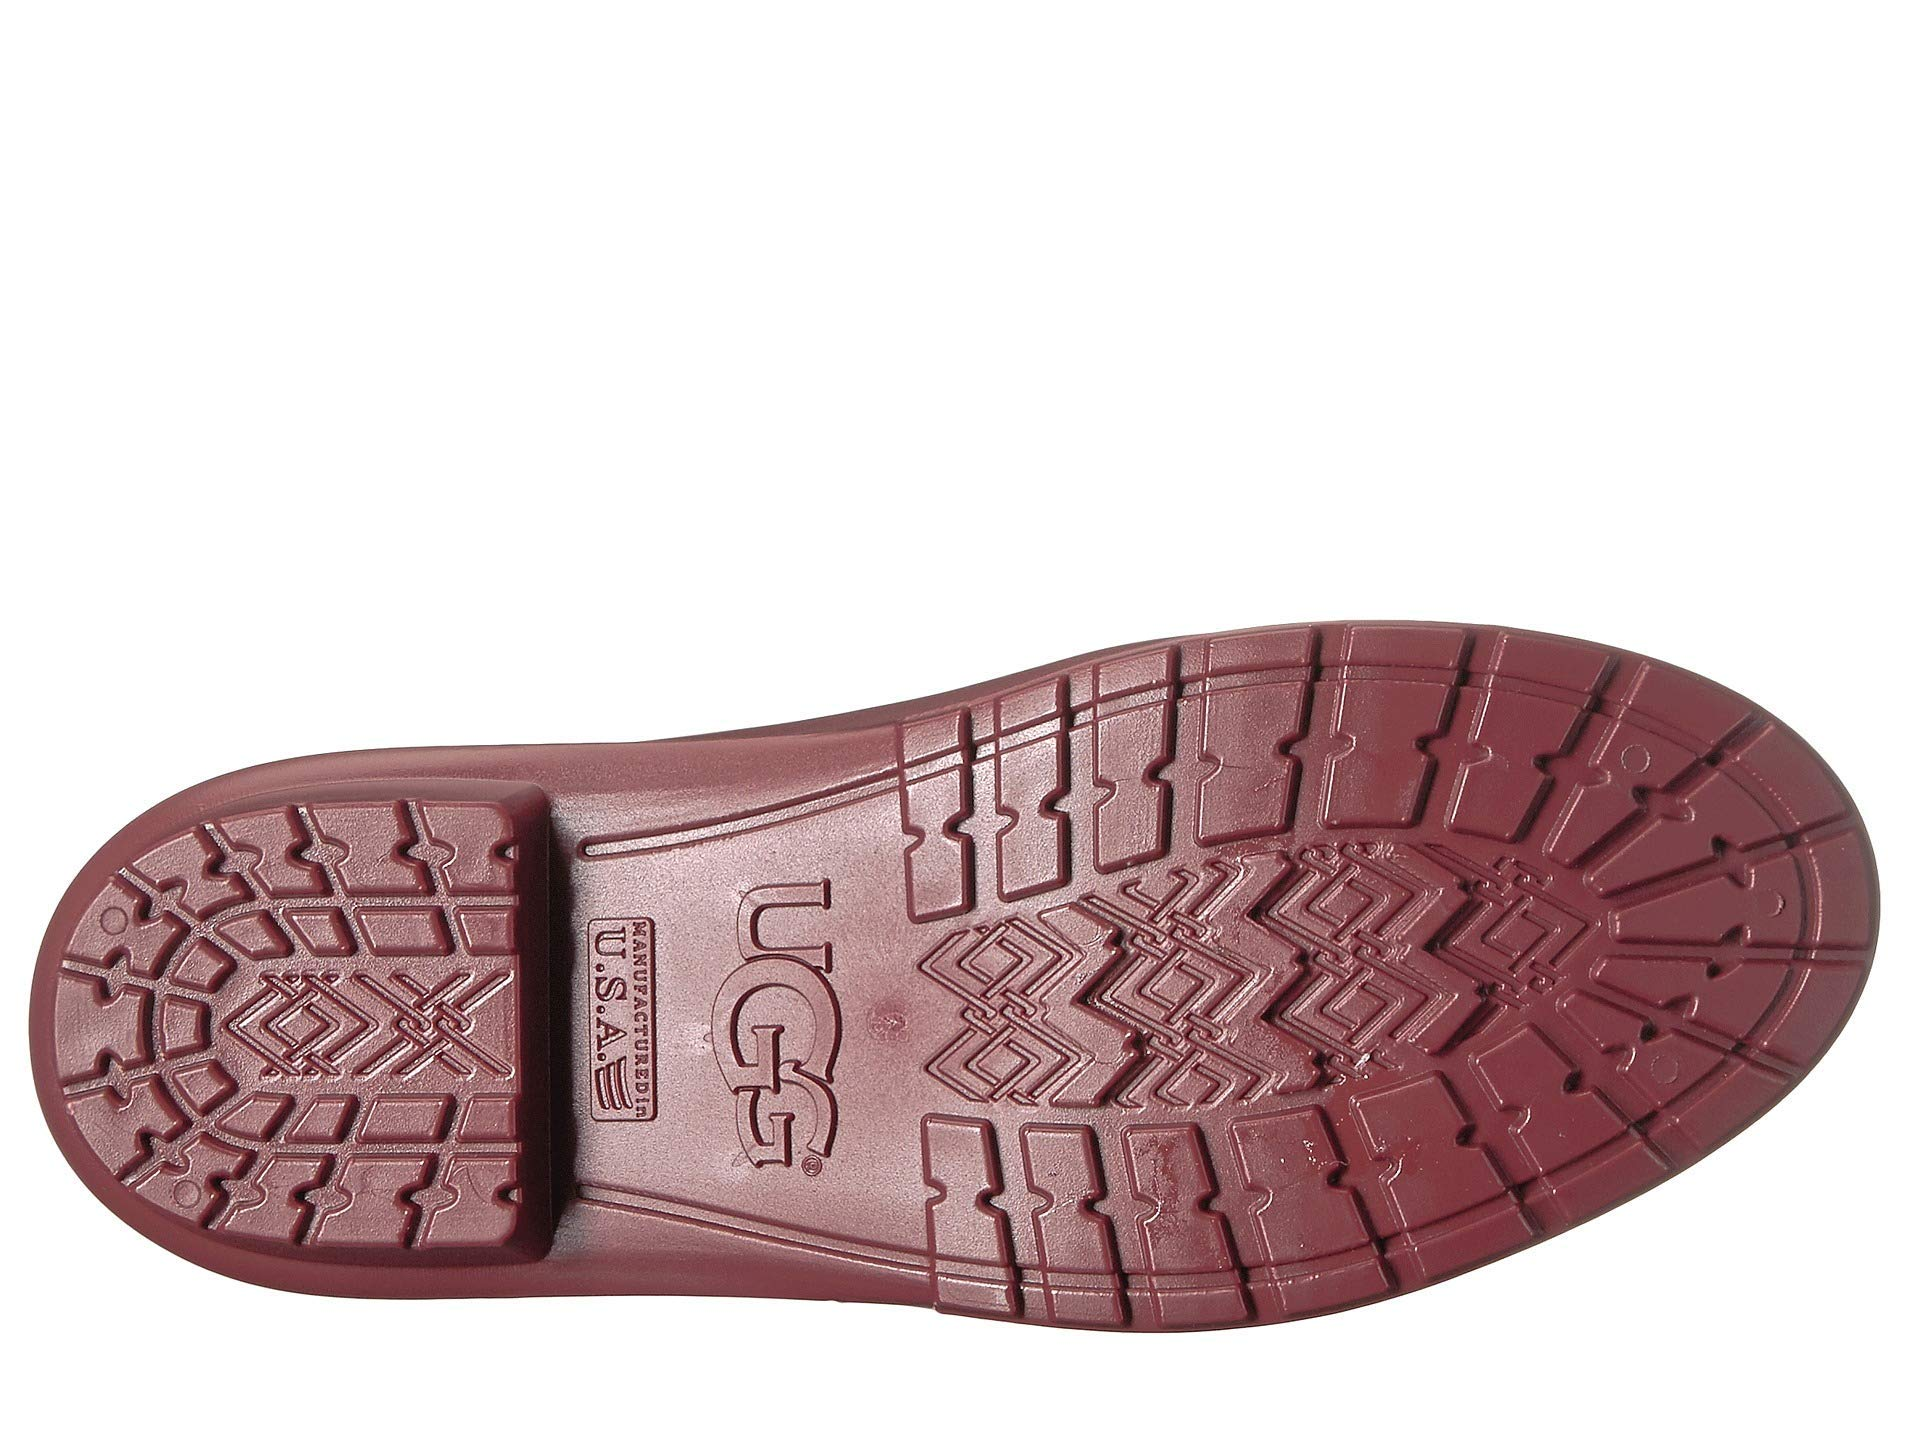bowtie: (1566, 690, 1872, 1080), (892, 1094, 1282, 1349), (1194, 620, 1469, 855), (853, 697, 1082, 926)
chevron: (913, 905, 1451, 1075), (165, 911, 550, 1109)
